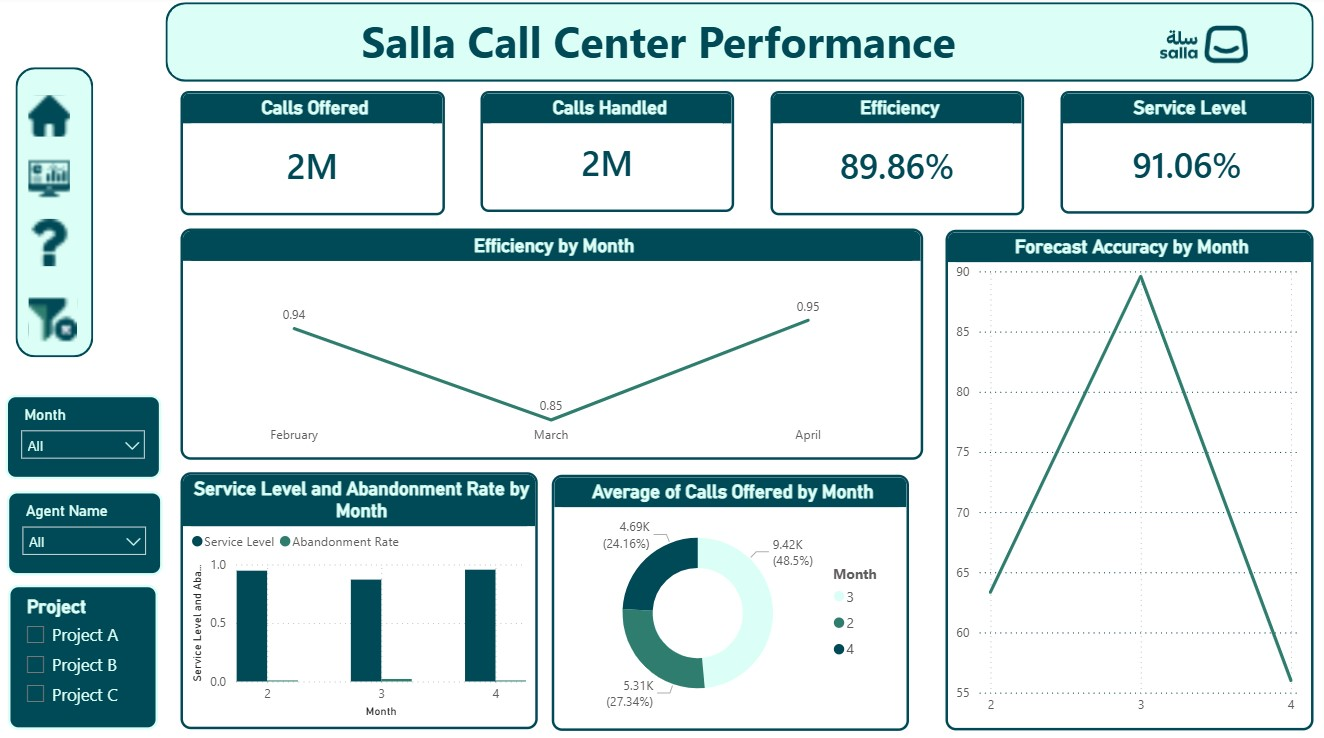

This screenshot's page, from the dashboard's own definition file:
{"tool":"powerbi","page":{"name":"analysis","canvas":[1280,720],"ordinal":2},"visuals":[{"type":"shape","box":[161.3,5.6,1108.3,76.7],"z":4001},{"type":"actionButton","box":[229.7,10.6,816.7,58.3],"z":4002},{"type":"cardVisual","title":"Calls Offered","fields":{"Data":["data.Total Calls Offered"]},"box":[176.7,91.7,255,120],"z":4003},{"type":"cardVisual","title":"Calls Handled","fields":{"Data":["data.Total Calls Handled"]},"box":[466.1,91.7,245,116.7],"z":4004},{"type":"cardVisual","title":"Efficiency","fields":{"Data":["data.Efficiency"]},"box":[745.6,91.7,245,120],"z":4005},{"type":"cardVisual","title":"Service Level","fields":{"Data":["data.Service Level"]},"box":[1025,91.7,245,118.3],"z":4006},{"type":"lineChart","fields":{"Category":["data.Date.Variation.Date Hierarchy.Month","data.Day Name"],"Y":["data.Efficiency"]},"box":[176.7,225,716.7,223.3],"z":4007},{"type":"clusteredColumnChart","fields":{"Category":["data.Month"],"Y":["data.Service Level","data.Abandonment Rate"]},"box":[176.7,460,345,248.3],"z":4008},{"type":"lineChart","fields":{"Category":["data.Month"],"Y":["data.Forecast Accuracy"]},"box":[914.7,225.7,355,483.3],"z":4009},{"type":"donutChart","fields":{"Category":["data.Month"],"Y":["Avg(data.Calls Offered)"]},"box":[534.5,462.1,345,247.3],"z":4010},{"type":"actionButton","box":[1046.7,0,233.3,93.3],"z":4011},{"type":"shape","box":[16.7,68.3,75,280],"z":4012},{"type":"actionButton","box":[25,285,55,55],"z":4013},{"type":"slicer","fields":{"Values":["data.Date.Variation.Date Hierarchy.Month"]},"box":[6.7,385,150,81.7],"z":4014},{"type":"slicer","fields":{"Values":["data.Project"]},"box":[10,568.3,145,140],"z":4015},{"type":"slicer","fields":{"Values":["data.Agent Name"]},"box":[8.3,478.3,150,81.7],"z":4016},{"type":"actionButton","box":[25,151.7,66.7,48.3],"z":4017},{"type":"actionButton","box":[25,91.7,66.7,48.3],"z":4018},{"type":"actionButton","box":[22.5,211.2,66.2,53.8],"z":4019}]}

Visuals, with their boxes in screenshot pixels (x1, y1, x2, y2), scaled from the page's 1280x720 canvas onto the 1324x738 screenshot:
shape: Rect(167, 6, 1313, 84)
actionButton: Rect(238, 11, 1082, 71)
"Calls Offered" cardVisual: Rect(183, 94, 447, 217)
"Calls Handled" cardVisual: Rect(482, 94, 736, 214)
"Efficiency" cardVisual: Rect(771, 94, 1025, 217)
"Service Level" cardVisual: Rect(1060, 94, 1314, 215)
lineChart - data.Date.Variation.Date Hierarchy.Month x data.Day Name: Rect(183, 231, 924, 460)
clusteredColumnChart - data.Month x data.Service Level: Rect(183, 471, 540, 726)
lineChart - data.Month x data.Forecast Accuracy: Rect(946, 231, 1313, 727)
donutChart - data.Month x Avg(data.Calls Offered): Rect(553, 474, 910, 727)
actionButton: Rect(1083, 0, 1323, 96)
shape: Rect(17, 70, 95, 357)
actionButton: Rect(26, 292, 83, 348)
slicer - data.Date.Variation.Date Hierarchy.Month: Rect(7, 395, 162, 478)
slicer - data.Project: Rect(10, 583, 160, 726)
slicer - data.Agent Name: Rect(9, 490, 164, 574)
actionButton: Rect(26, 155, 95, 205)
actionButton: Rect(26, 94, 95, 144)
actionButton: Rect(23, 216, 92, 272)
